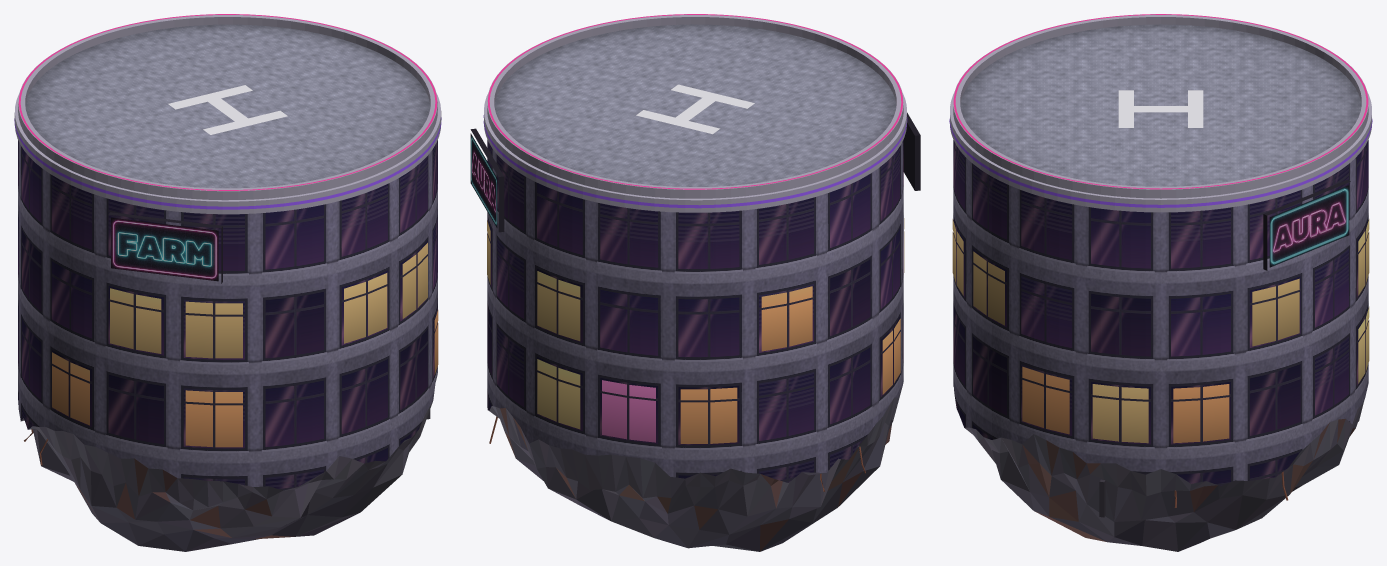
Rendered from island_duel.glb.
The picture shows the model from 3 angles, left to right: view 1: azimuth 30°, elevation 25°; view 2: azimuth 150°, elevation 25°; view 3: azimuth 270°, elevation 25°; orthographic projection.
Visible parts, largest first — view 1: Island, Lit_Windows, Lit_Signs, Paint, Neon_ff3ea5, Neon_9b5cff; view 2: Island, Lit_Windows, Neon_ff3ea5, Paint, Neon_9b5cff, Lit_Signs; view 3: Island, Lit_Windows, Lit_Signs, Neon_ff3ea5, Paint, Neon_9b5cff.
Part boxes in pixels (left/top/right/bottom): Island: left=14, top=14, right=441, bottom=551; Lit_Windows: left=52, top=243, right=438, bottom=447; Lit_Signs: left=111, top=217, right=218, bottom=281; Paint: left=168, top=85, right=287, bottom=134; Neon_ff3ea5: left=18, top=14, right=437, bottom=190; Neon_9b5cff: left=14, top=117, right=441, bottom=209; Island: left=470, top=14, right=920, bottom=551; Lit_Windows: left=487, top=218, right=904, bottom=443; Neon_ff3ea5: left=487, top=14, right=903, bottom=189; Paint: left=636, top=84, right=754, bottom=134; Neon_9b5cff: left=483, top=115, right=907, bottom=208; Lit_Signs: left=470, top=133, right=497, bottom=227; Island: left=950, top=14, right=1371, bottom=551; Lit_Windows: left=952, top=219, right=1369, bottom=443; Lit_Signs: left=1269, top=185, right=1349, bottom=267; Neon_ff3ea5: left=953, top=14, right=1368, bottom=189; Paint: left=1118, top=90, right=1203, bottom=127; Neon_9b5cff: left=949, top=119, right=1372, bottom=207.
Bounding box in the file's own units: 15.27 × 17.46 × 15.26.
Materials: 8 (3 with a texture image).
